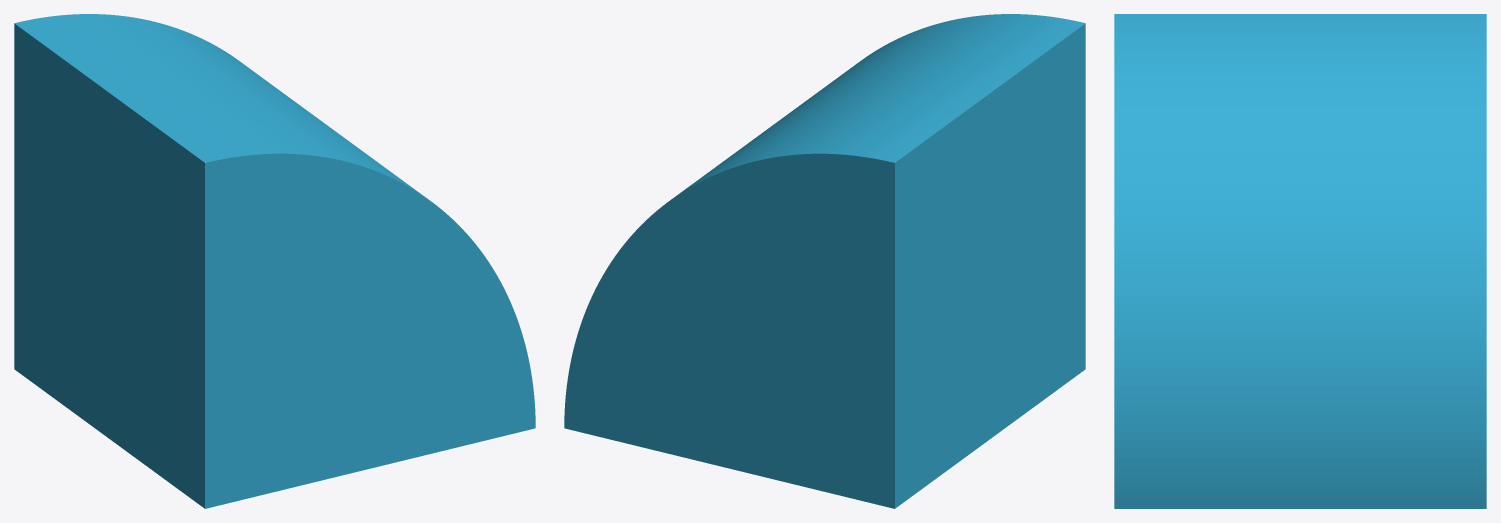
The model's file is block_blue_quarter_cylinder.obj.
3 renders of one model, left to right at view 1: azimuth 30°, elevation 25°; view 2: azimuth 150°, elevation 25°; view 3: azimuth 270°, elevation 25°, orthographic. The views are drawn at different scales.
Visible parts, largest first — view 1: block_blue_quarter_cylinder; view 2: block_blue_quarter_cylinder; view 3: block_blue_quarter_cylinder.
Part boxes in pixels (x1,y1,x2,y2): block_blue_quarter_cylinder: (14,14,535,508); block_blue_quarter_cylinder: (564,14,1085,508); block_blue_quarter_cylinder: (1114,14,1486,508).
Size of the model in its own units: 0.04 by 0.04 by 0.04.
